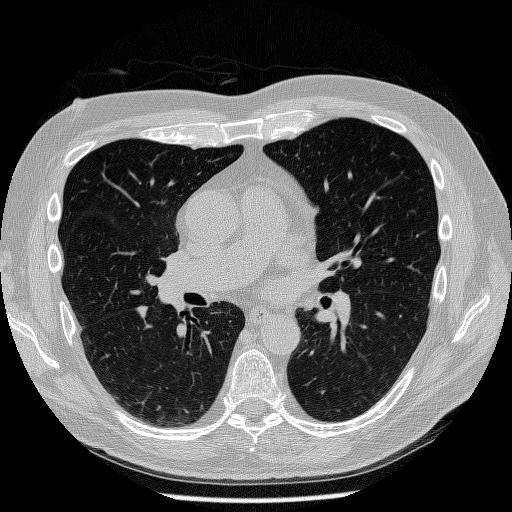nodule: (135, 303, 150, 318)
